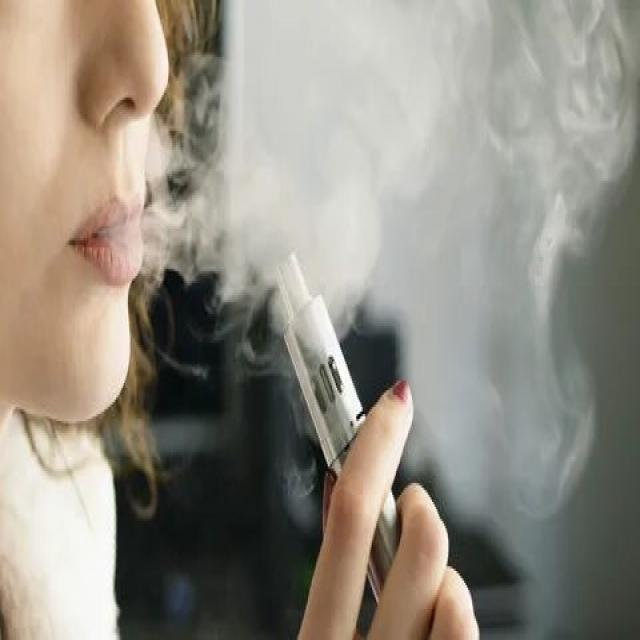smoke: (269, 240, 420, 626)
